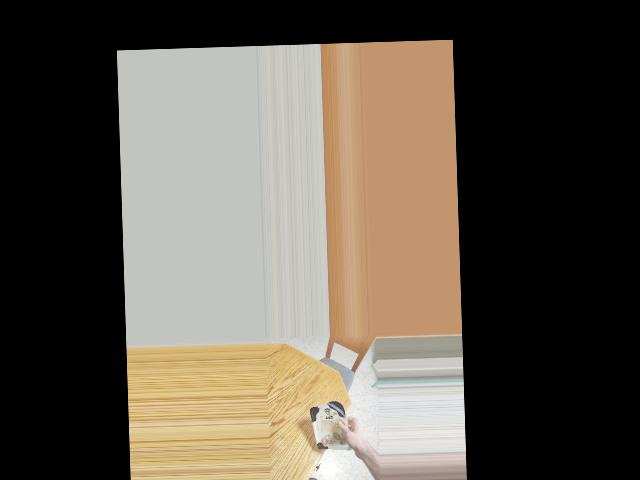cheese: (311, 398, 350, 462)
